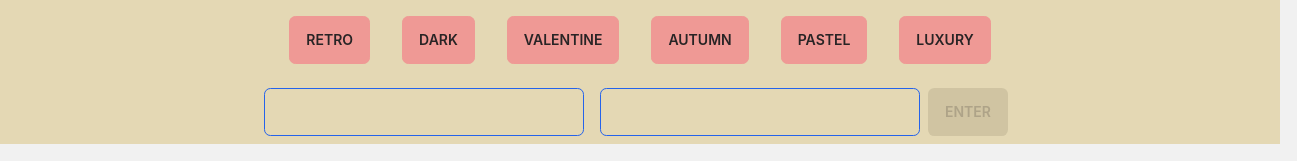
Test: Testa componente Login se o botão é habilitado › Testa se o botão de Entrar só é habilitado quando é digitado um email válido e senha qualquer
Check: the button with test id "login-submit-btn" is disabled, box [928,88,1008,136]
Type "mail@mail.com" into the field with test id "email-input" at (424, 112), box [264,88,584,136]
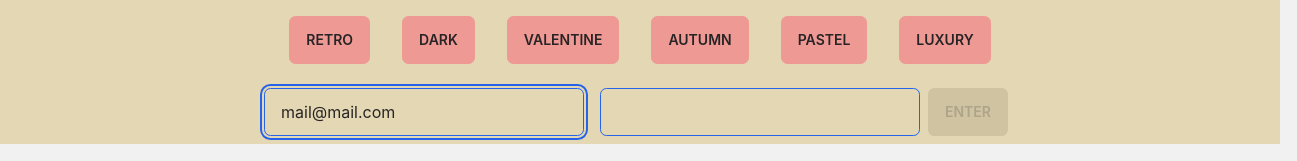
Type "12345678" into the password field with test id "password-input" at (760, 112), box [600,88,920,136]
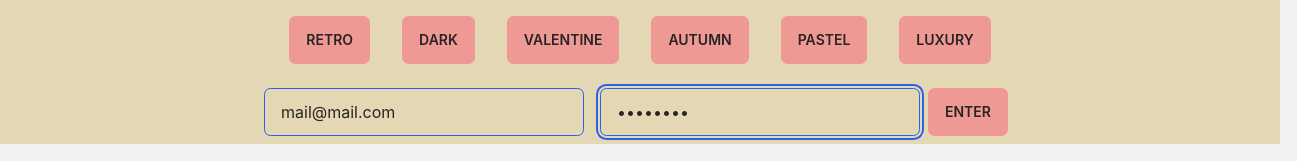
Check: the button with test id "login-submit-btn" is enabled, box [928,88,1008,136]
